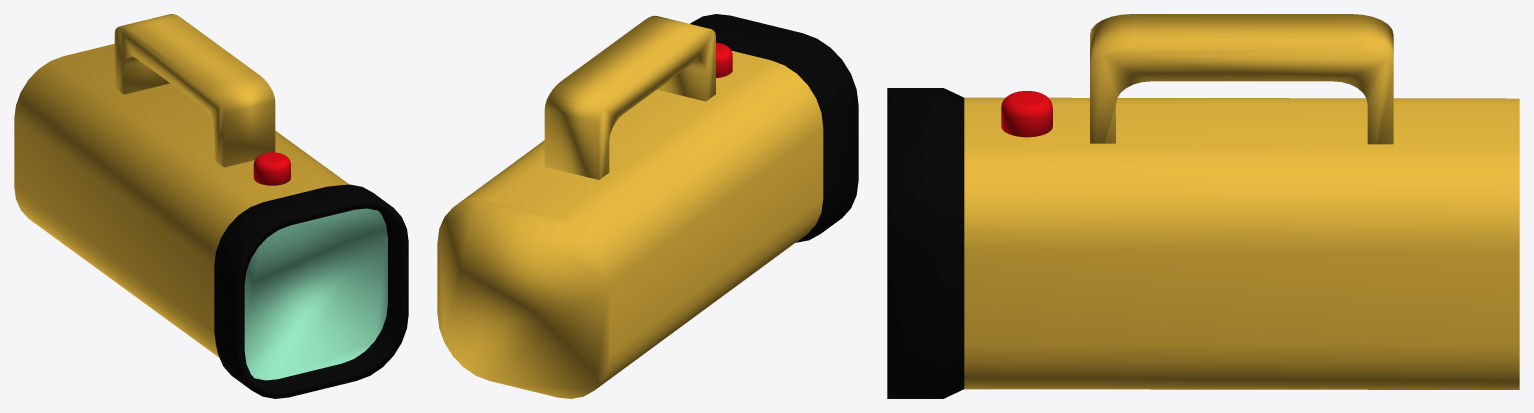
The model's file is moderne-lampe.glb.
3 views of the same model, side by side, from view 1: azimuth 30°, elevation 25°; view 2: azimuth 150°, elevation 25°; view 3: azimuth 270°, elevation 25° (orthographic). The views are drawn at different scales.
Visible parts, largest first — view 1: Cube; view 2: Cube; view 3: Cube.
Part boxes in pixels (bbox=[...]): Cube: bbox=[14, 14, 408, 398]; Cube: bbox=[437, 14, 858, 398]; Cube: bbox=[887, 14, 1519, 398].
Size of the model in its own units: 0.5208 by 0.7024 by 1.19.
